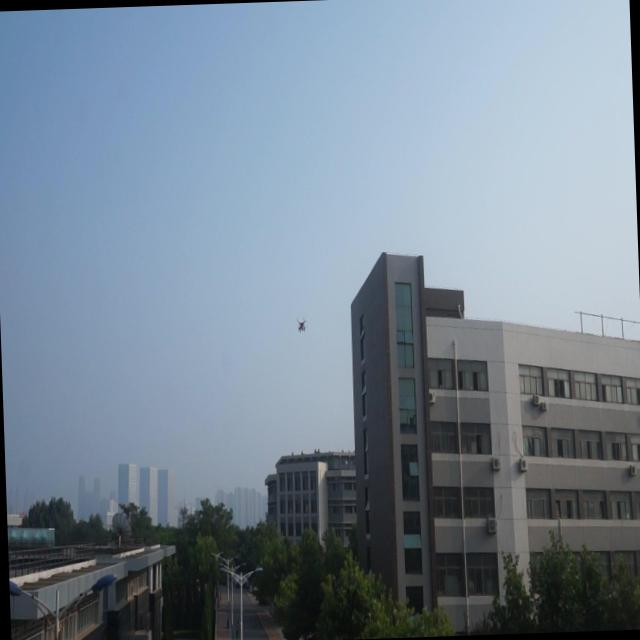drone: (295, 316, 306, 333)
